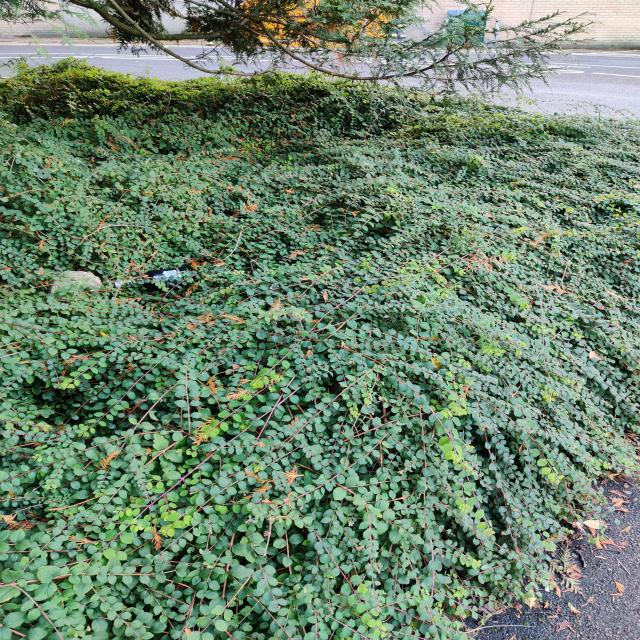litter: (115, 259, 201, 294)
